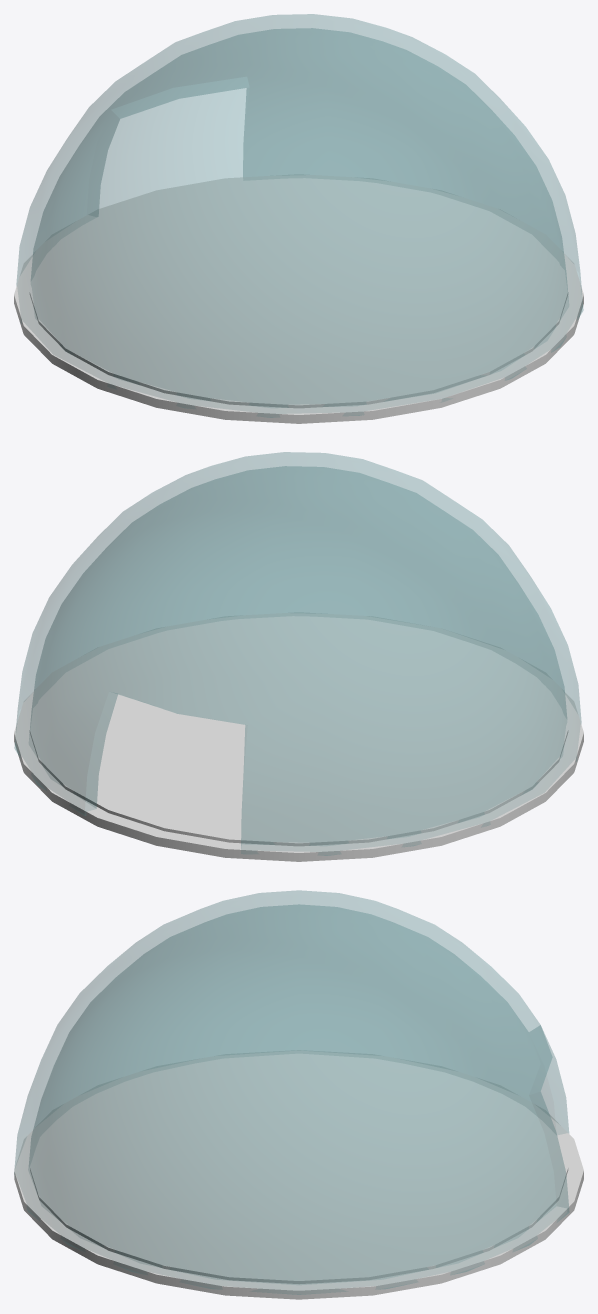
Rendered from Cupula.fbx.
3 views of the same model, one above another, from view 1: azimuth 30°, elevation 25°; view 2: azimuth 150°, elevation 25°; view 3: azimuth 270°, elevation 25° (orthographic).
Visible parts, largest first — view 1: pSphere1, pasted__pDisc1; view 2: pSphere1, pasted__pDisc1; view 3: pSphere1, pasted__pDisc1.
Part boxes in pixels (x1,y1,x2,y2): pSphere1: (16,14,583,417); pasted__pDisc1: (14,174,583,423); pSphere1: (14,452,581,855); pasted__pDisc1: (14,612,583,861); pSphere1: (14,890,569,1294); pasted__pDisc1: (14,1050,583,1299).
Bounding box in the file's own units: 114 × 57.68 × 113.
